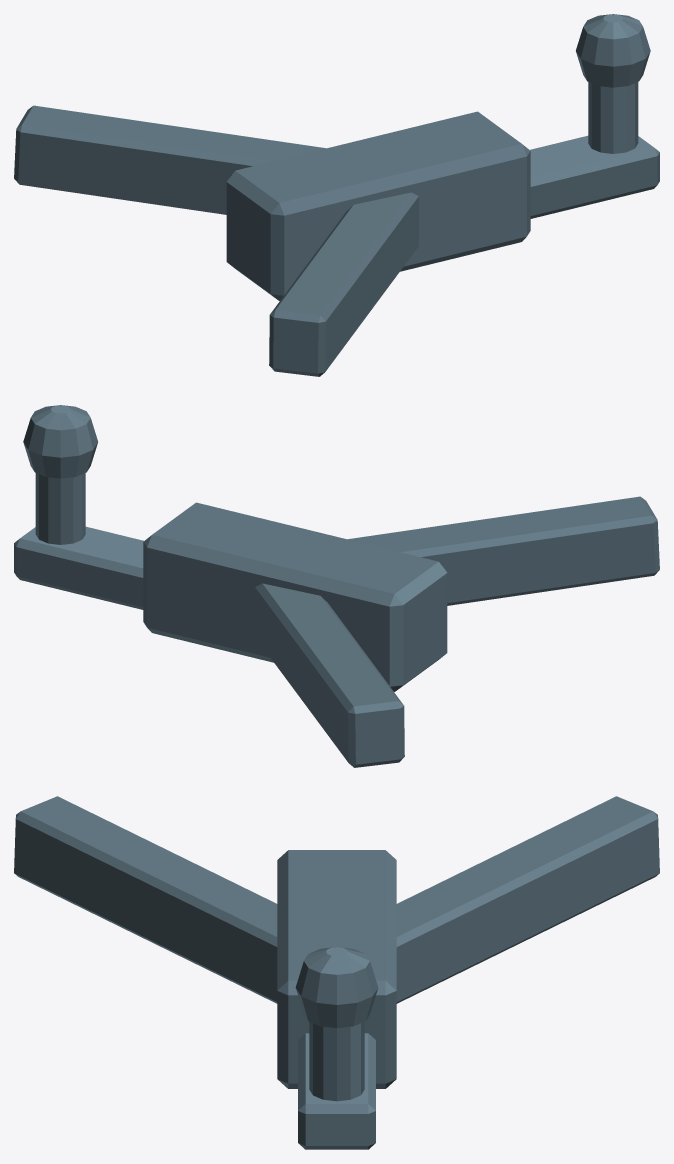
The model's file is EC_TowHitch.fbx.
3 renders of one model, top to bottom at view 1: azimuth 30°, elevation 25°; view 2: azimuth 150°, elevation 25°; view 3: azimuth 270°, elevation 25°, orthographic. The views are drawn at different scales.
Parts seen in each view (by area): view 1: EC_TowHitch; view 2: EC_TowHitch; view 3: EC_TowHitch.
Boxes of the visible parts, <box> form: EC_TowHitch: <box>14,14,659,376</box>; EC_TowHitch: <box>14,405,659,767</box>; EC_TowHitch: <box>14,796,659,1149</box>.
Size of the model in its own units: 0.6955 by 0.238 by 0.7024.
